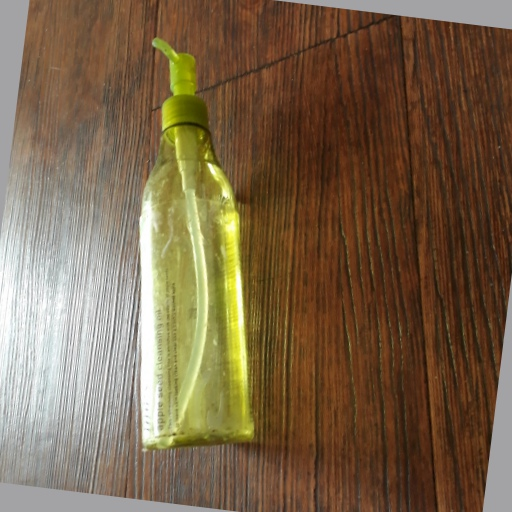Plastic_3: (132, 36, 257, 451)
